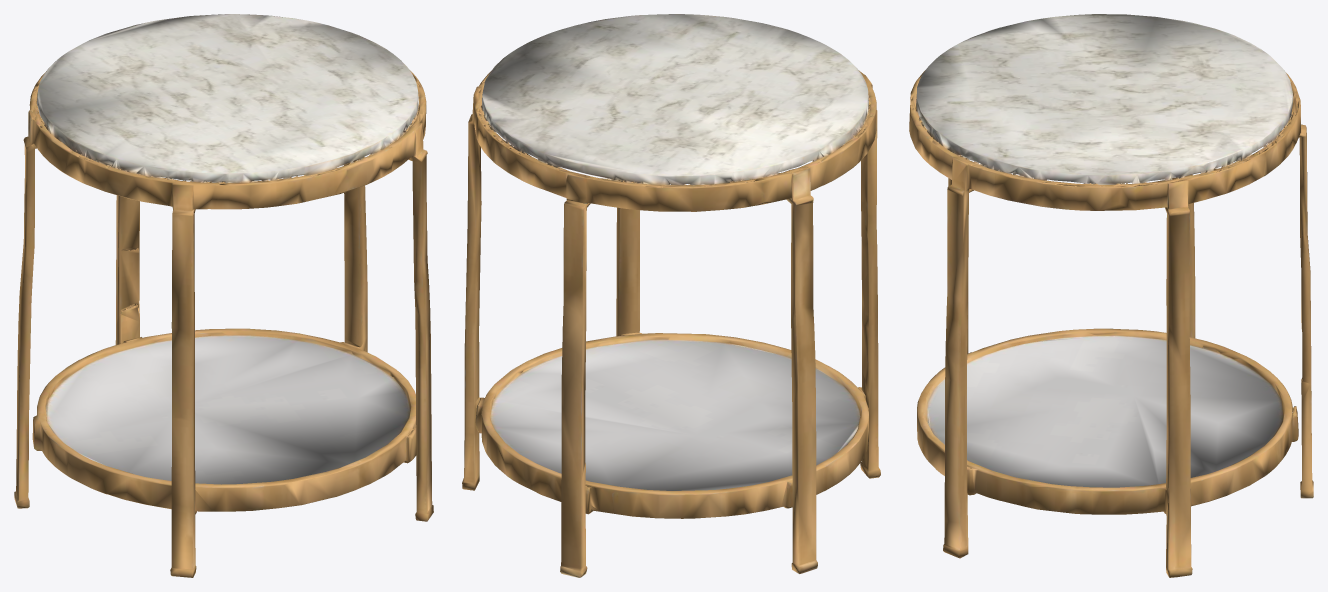
File: side-table.glb
3 renders of one model, left to right at view 1: azimuth 30°, elevation 25°; view 2: azimuth 150°, elevation 25°; view 3: azimuth 270°, elevation 25°, orthographic.
Visible parts, largest first — view 1: side-table-normalized; view 2: side-table-normalized; view 3: side-table-normalized.
Part boxes in pixels (x1,y1,x2,y2): side-table-normalized: (14, 14, 433, 577); side-table-normalized: (462, 14, 880, 577); side-table-normalized: (909, 14, 1313, 577).
Size of the model in its own units: 0.44 by 0.48 by 0.44.
1 material, 1 textured.
